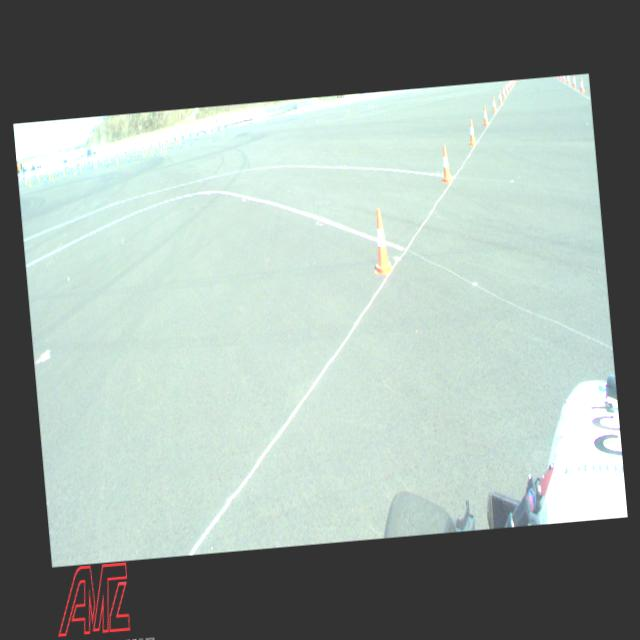orange_cone: (369, 208, 393, 275), (440, 146, 452, 182), (467, 119, 476, 144), (482, 106, 488, 125), (579, 78, 584, 93), (497, 90, 502, 104), (492, 95, 496, 112), (572, 74, 576, 88), (502, 86, 506, 98), (567, 74, 570, 84), (505, 83, 508, 93), (507, 80, 510, 89), (563, 75, 565, 81), (559, 76, 561, 78)
